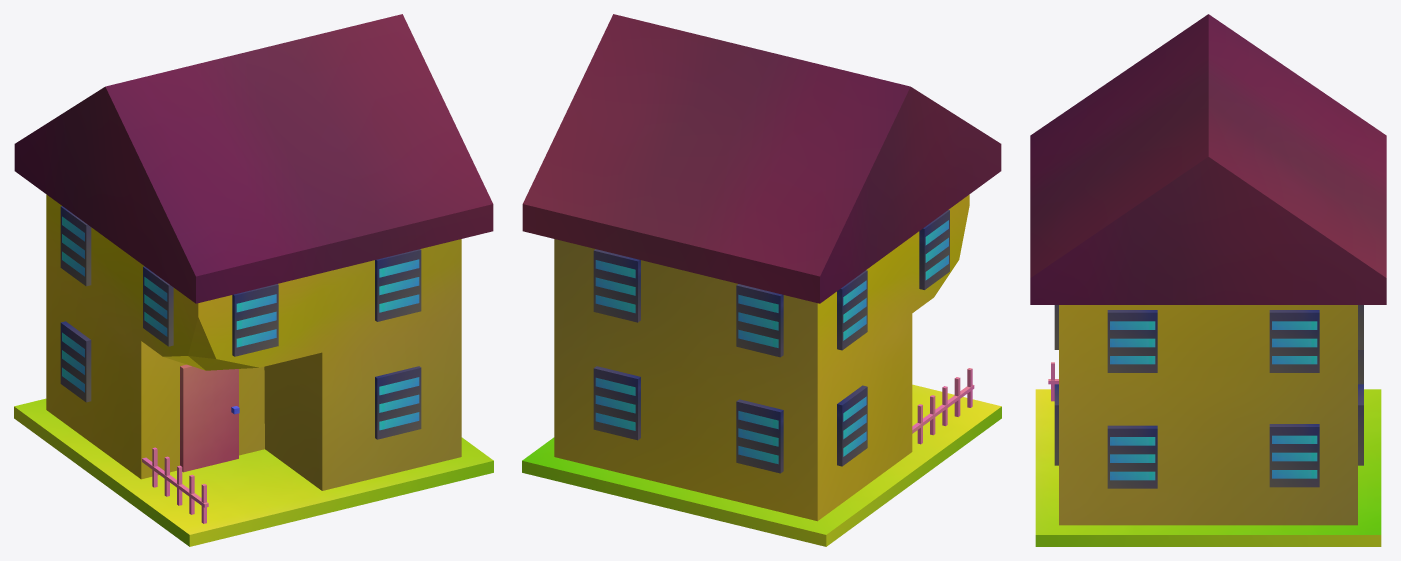
The model's file is House_14.glb.
3 renders of one model, left to right at view 1: azimuth 30°, elevation 25°; view 2: azimuth 150°, elevation 25°; view 3: azimuth 270°, elevation 25°, orthographic.
Visible parts, largest first — view 1: House_14; view 2: House_14; view 3: House_14.
Boxes of the visible parts, bbox=[...] form: House_14: bbox=[14, 14, 493, 546]; House_14: bbox=[522, 14, 1001, 546]; House_14: bbox=[1030, 14, 1386, 546].
Bounding box in the file's own units: 713 × 885 × 736.
Materials: 1 (1 with a texture image).
